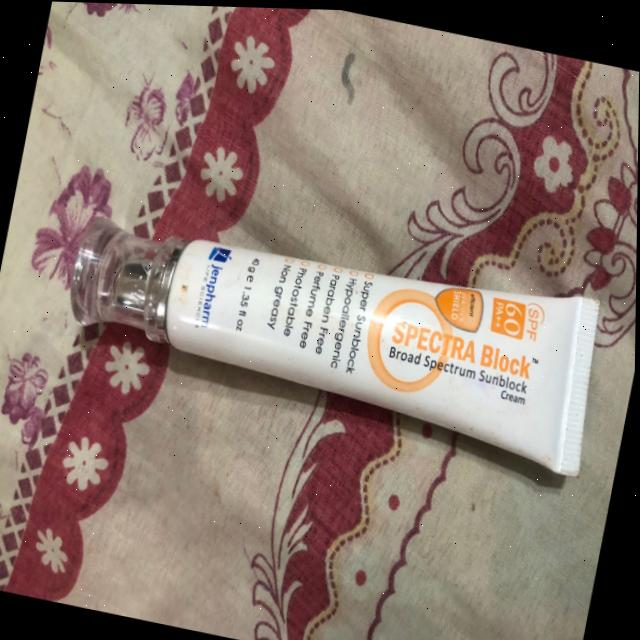bb cream: (24, 147, 637, 488)
